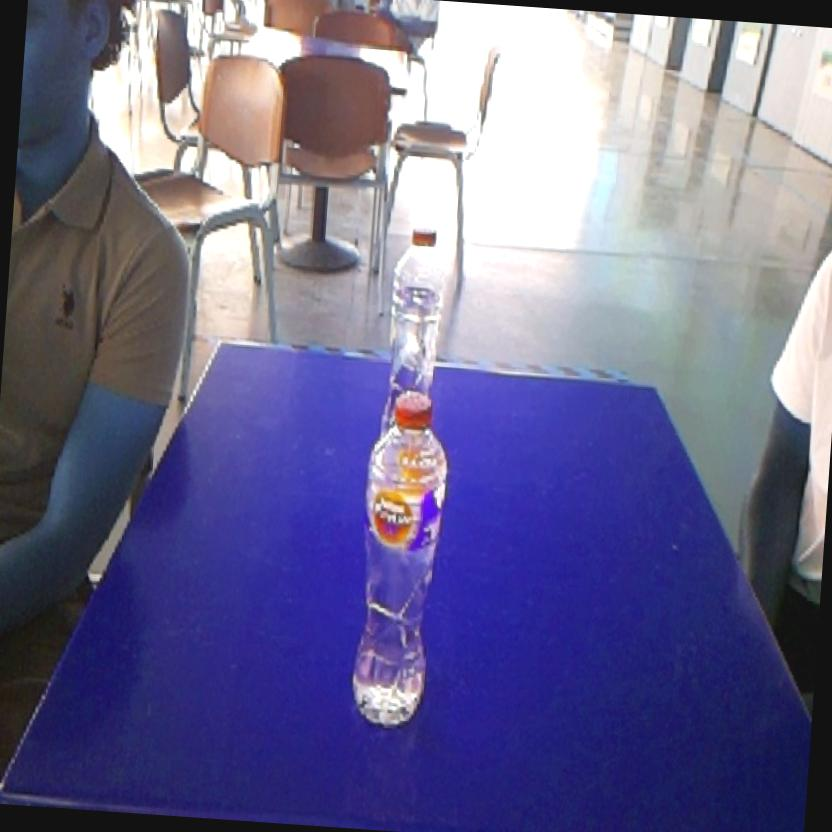good: (334, 378, 458, 742)
no_label: (374, 210, 459, 388)
